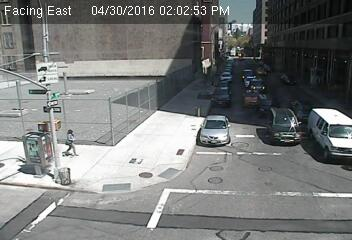neg: (234, 110, 272, 161), (184, 157, 209, 190), (170, 113, 190, 139)
pos: (59, 125, 81, 154)
